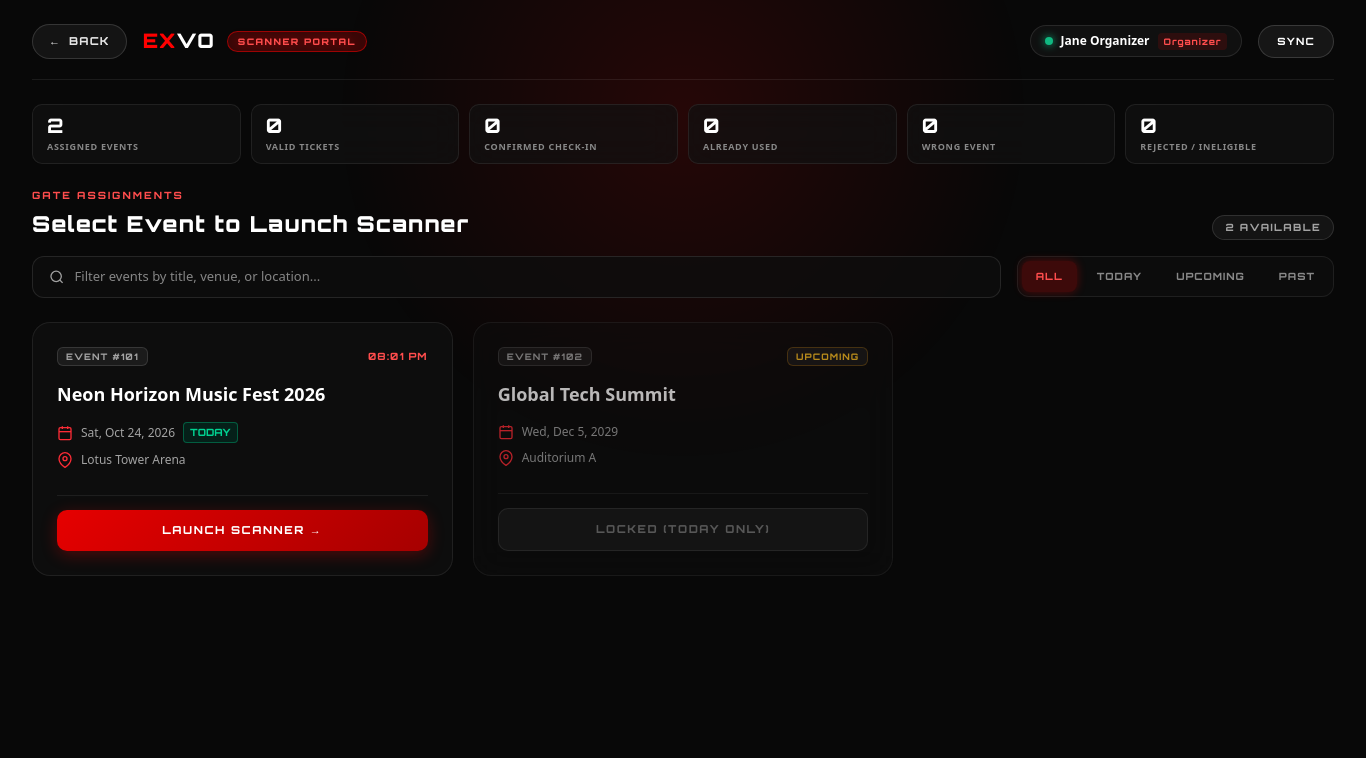
Test: CoordinatorScannerPortal (SCRUM-30) › detects duplicate scans in the current session and flags them with warning
The width and height of the screenshot is (1366, 758).
Expected: the heading "Neon Horizon Music Fest 2026" is shown, [57,382,325,406]
Click the button "LAUNCH SCANNER →": coordinates (242, 531) [57,510,428,551]
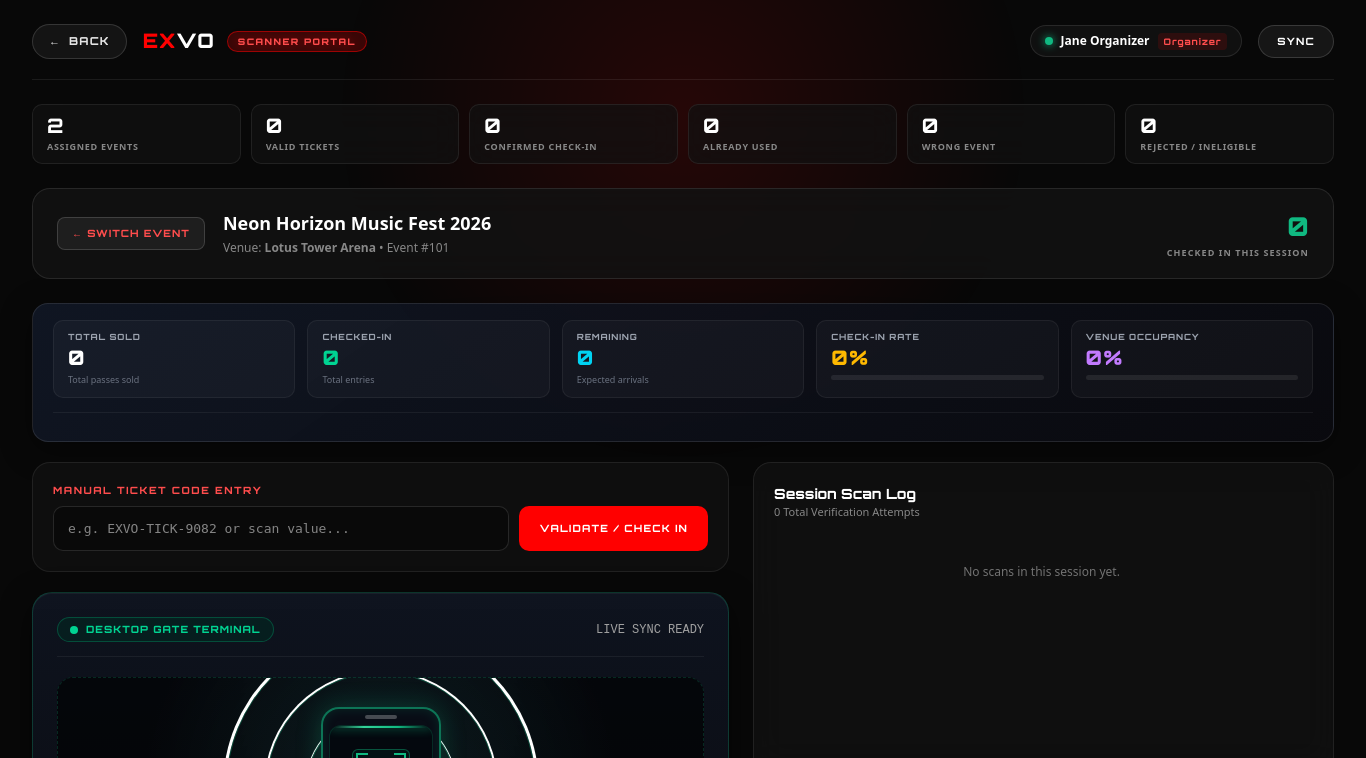
Expected: the field labelled "MANUAL TICKET CODE ENTRY" is shown
// First scan: valid
In the field labelled "MANUAL TICKET CODE ENTRY": coordinates (281, 529) [53,506,510,551], type "EXVO-TICK-DUPE"
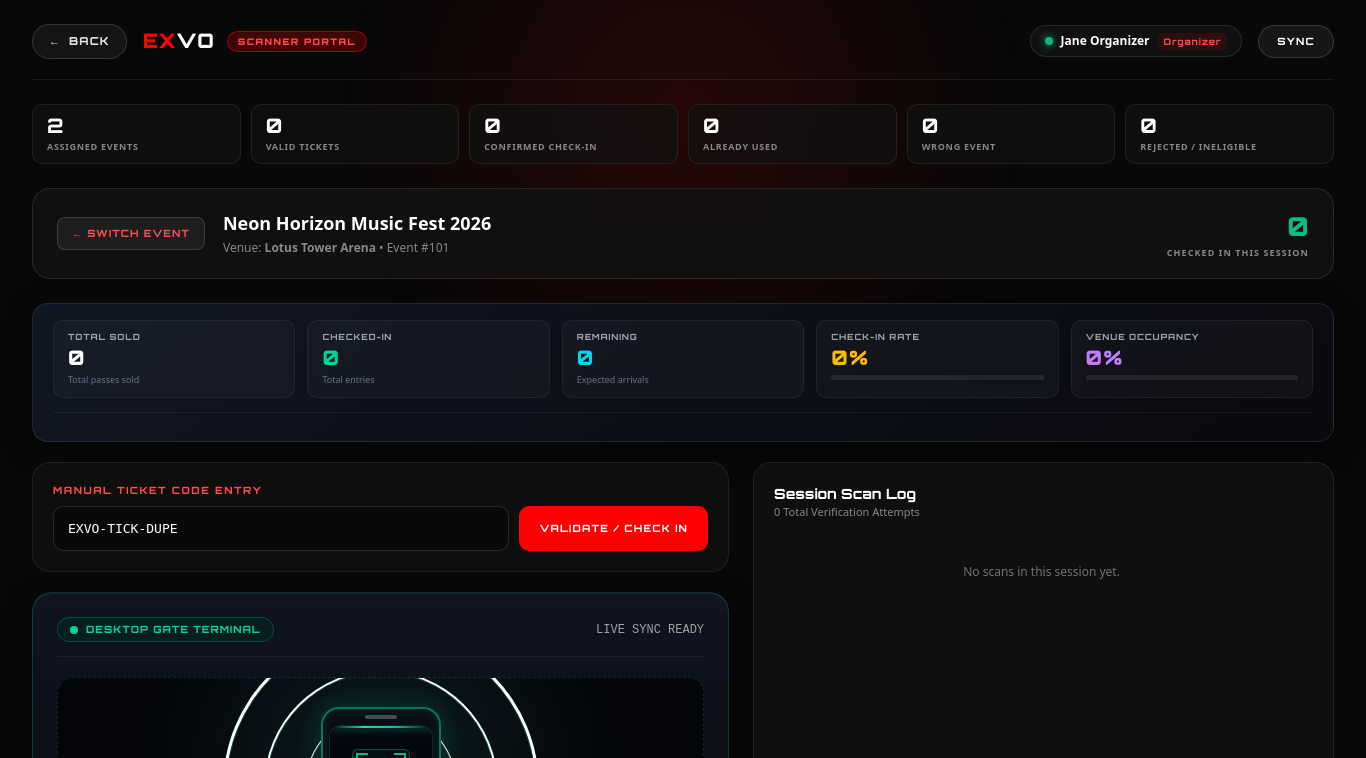
Click the button "VALIDATE / CHECK IN": coordinates (614, 529) [520,506,708,551]
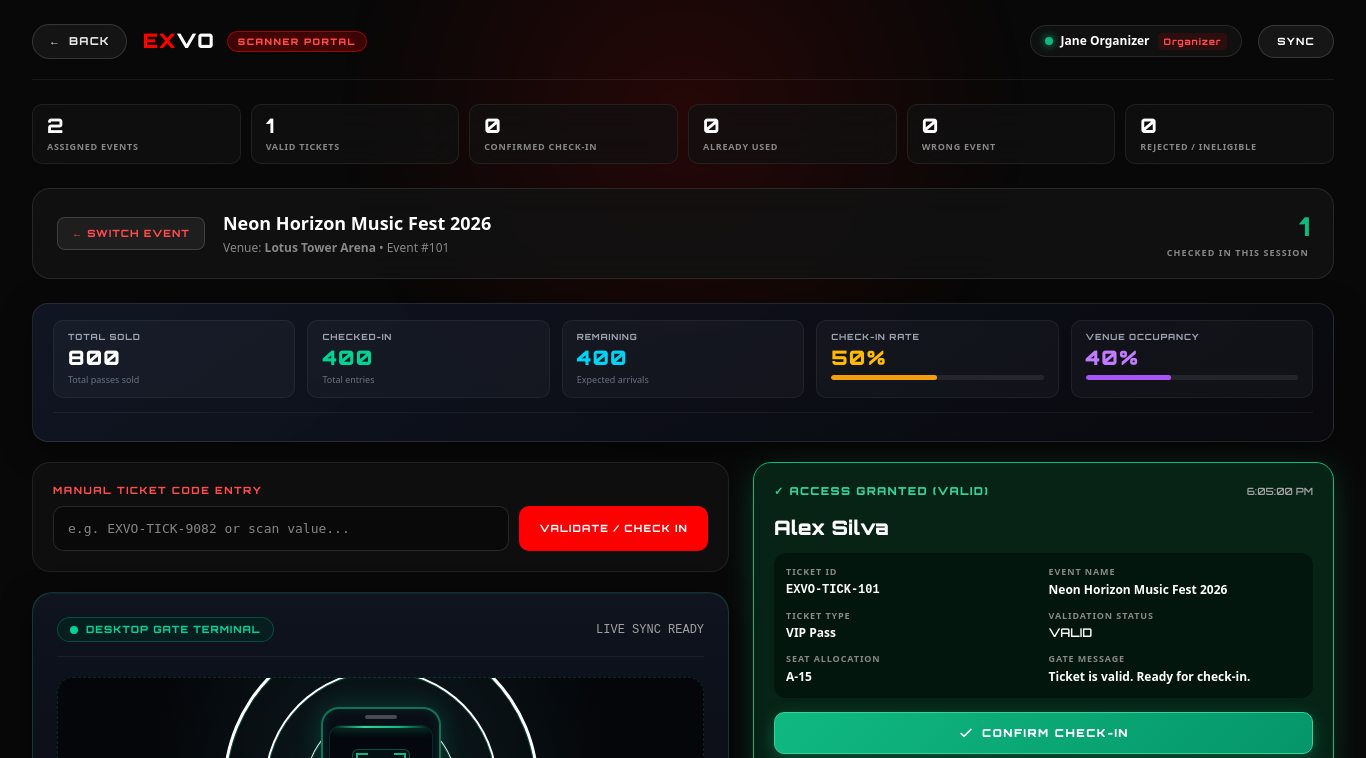
Expected: the text "✓ ACCESS GRANTED (VALID)" is shown, [774,483,989,499]
// Second scan with same code: duplicate!
In the field labelled "MANUAL TICKET CODE ENTRY": coordinates (281, 529) [53,506,510,551], type "EXVO-TICK-DUPE"
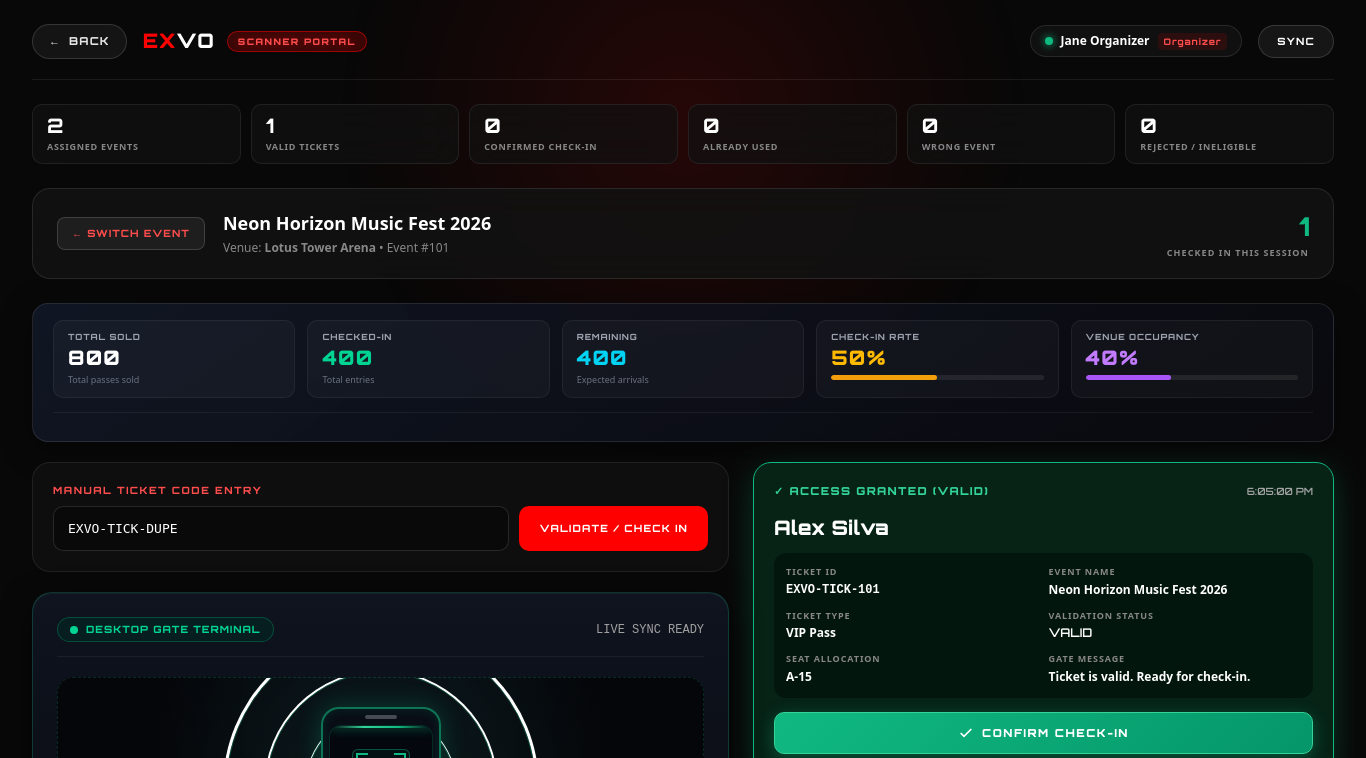
Click the button "VALIDATE / CHECK IN": coordinates (614, 529) [520,506,708,551]
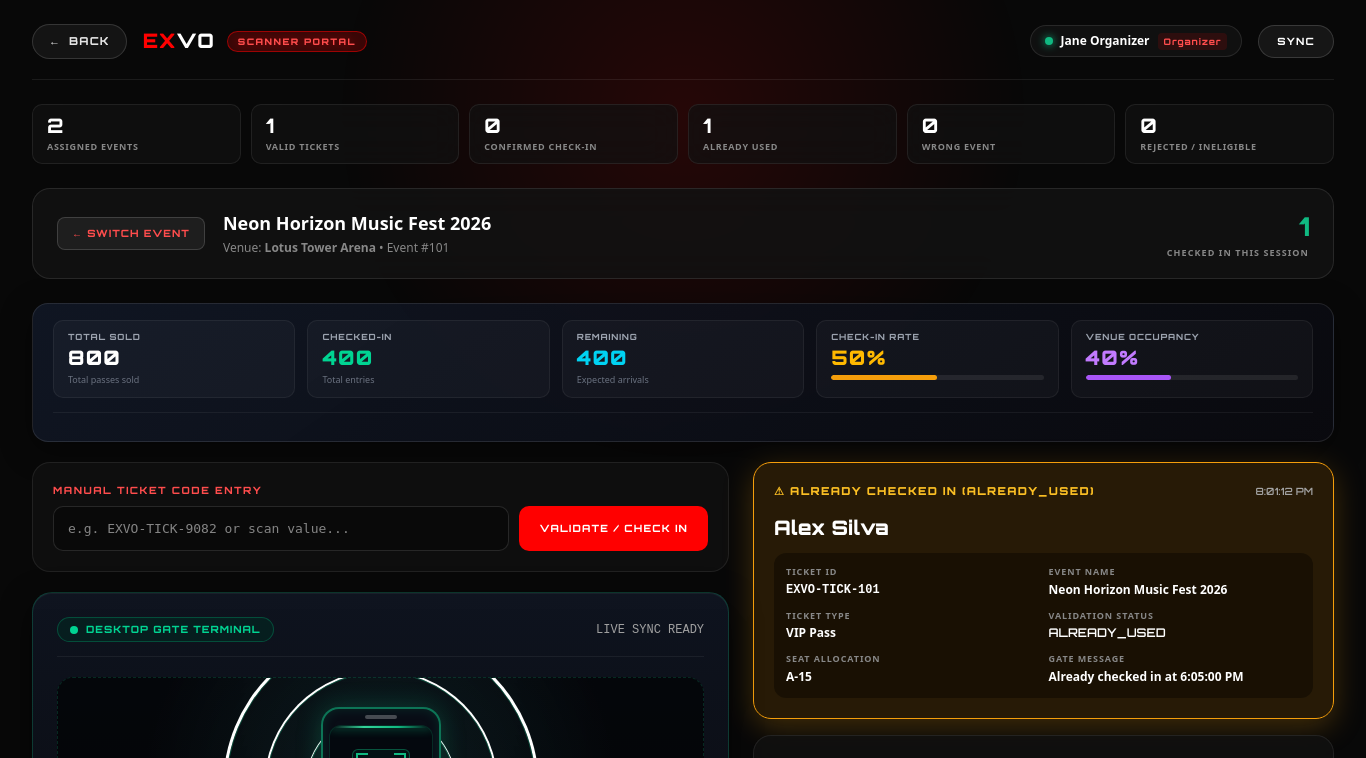
Expected: the text "⚠ ALREADY CHECKED IN (ALREADY_USED)" is shown, [774,483,1094,499]
